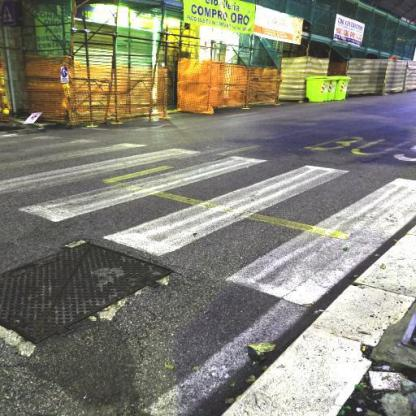crosswalk: (98, 132, 415, 321)
